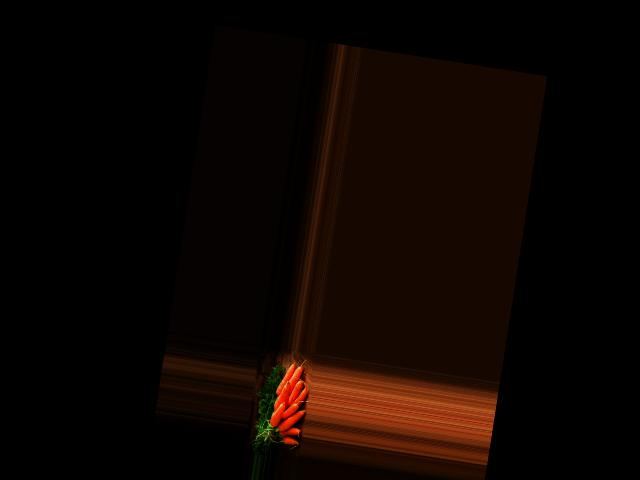carrot: (279, 435, 299, 448)
